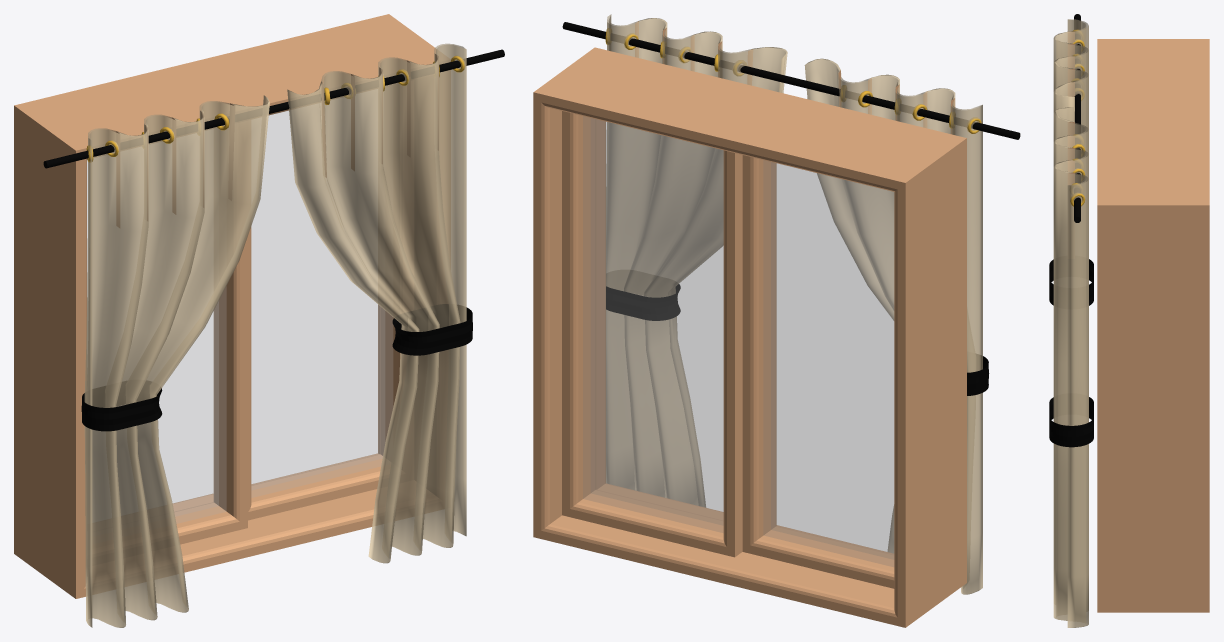
3 views of the same model, side by side, from view 1: azimuth 30°, elevation 25°; view 2: azimuth 150°, elevation 25°; view 3: azimuth 270°, elevation 25° (orthographic). The views are drawn at different scales.
Visible parts, largest first — view 1: Window.001; view 2: Window.001; view 3: Window.001.
Part boxes in pixels (x1=…): Window.001: x1=14, y1=14, x2=504, y2=627; Window.001: x1=533, y1=14, x2=1020, y2=627; Window.001: x1=1049, y1=14, x2=1209, y2=627.
Bounding box in the file's own units: 1.71 × 1.74 × 0.5705.
